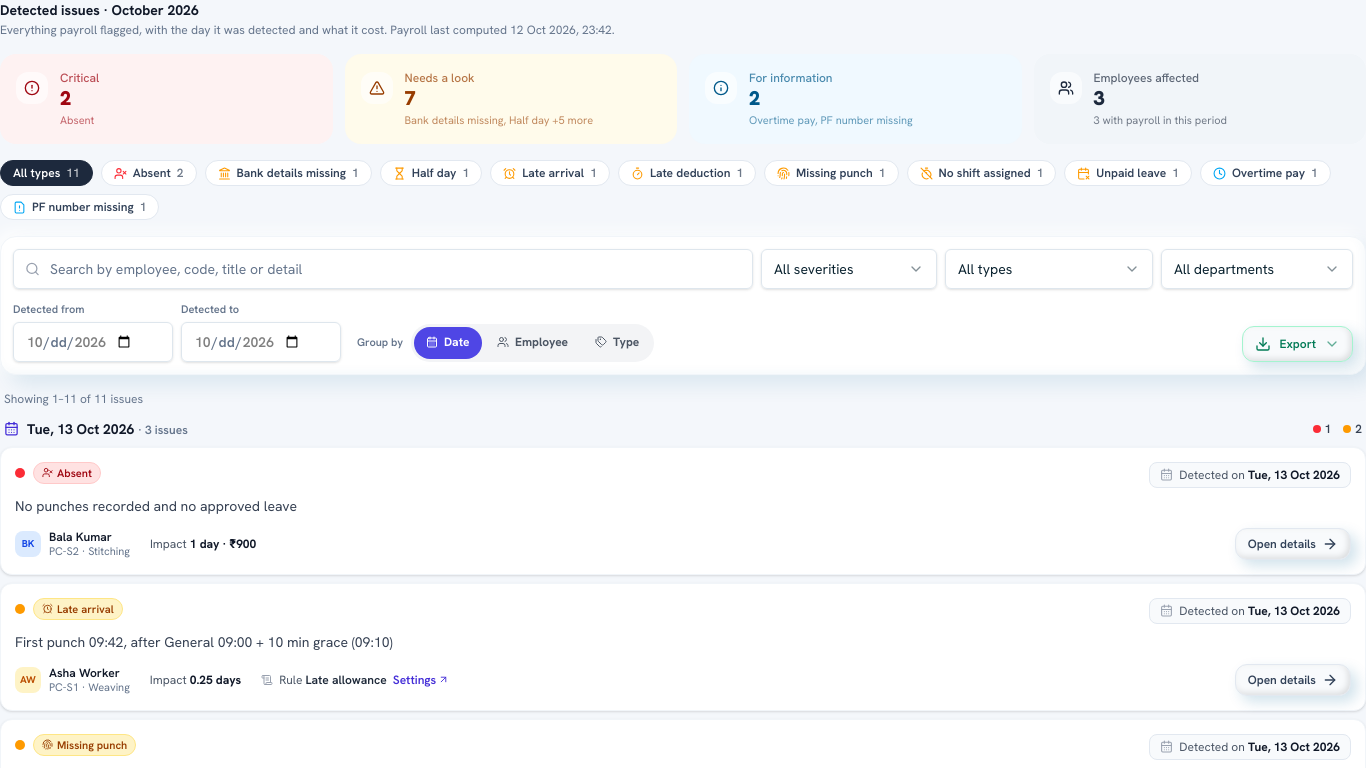
Test: the Issues panel, by type › lists a header for each kind with its count and what it cost in all
The width and height of the screenshot is (1366, 768).
Click the tab "Type". click: (617, 343)
box: x1=583 y1=327 x2=651 y2=359
(page scrolled)
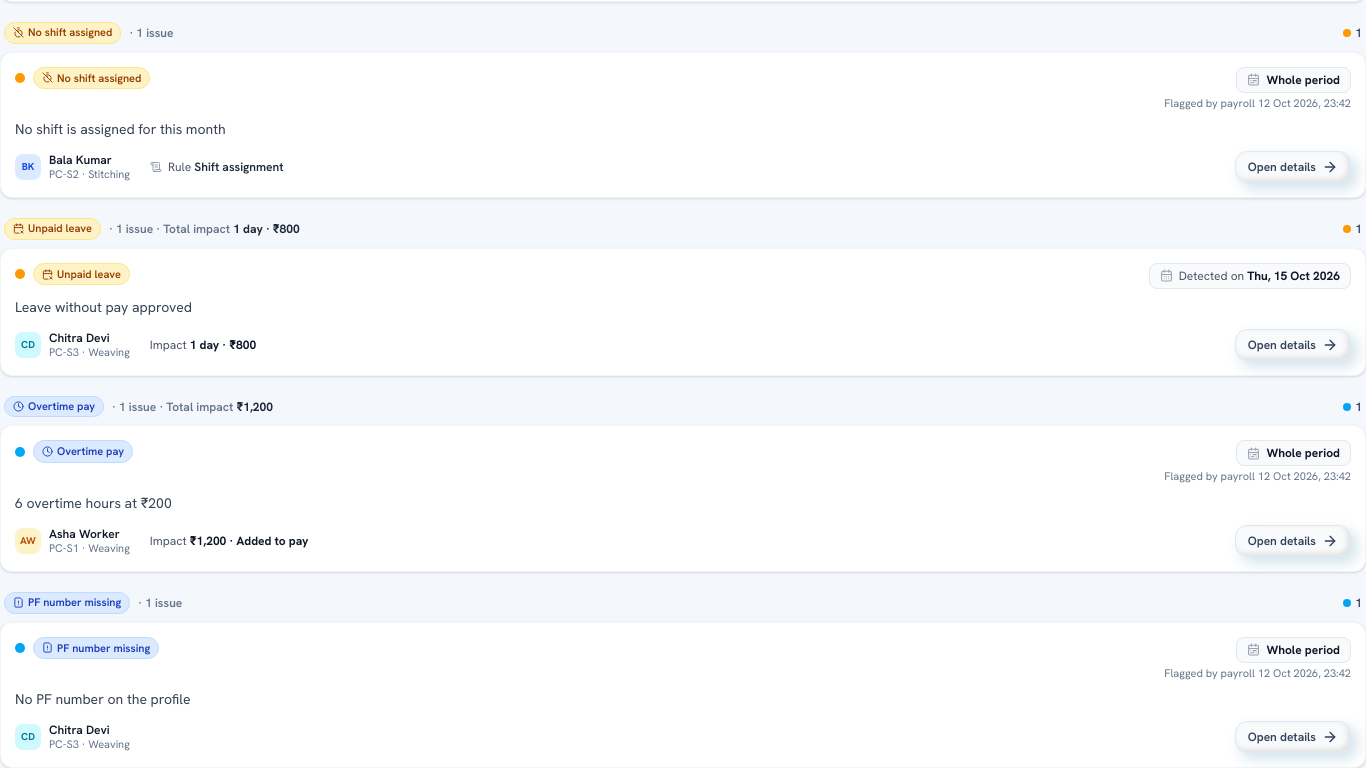
Expected: the element with test id "issues-group-title" reads "· 1 issue · Total impact ₹1,200", x1=112 y1=399 x2=273 y2=415
